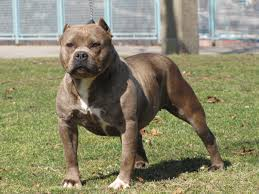Perro Pitbull: (35, 14, 229, 194)
